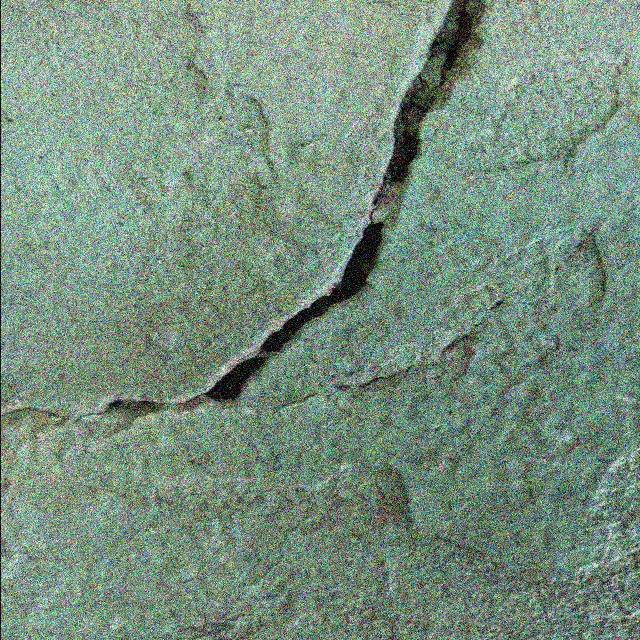SurfaceCrack: (0, 1, 512, 473)
